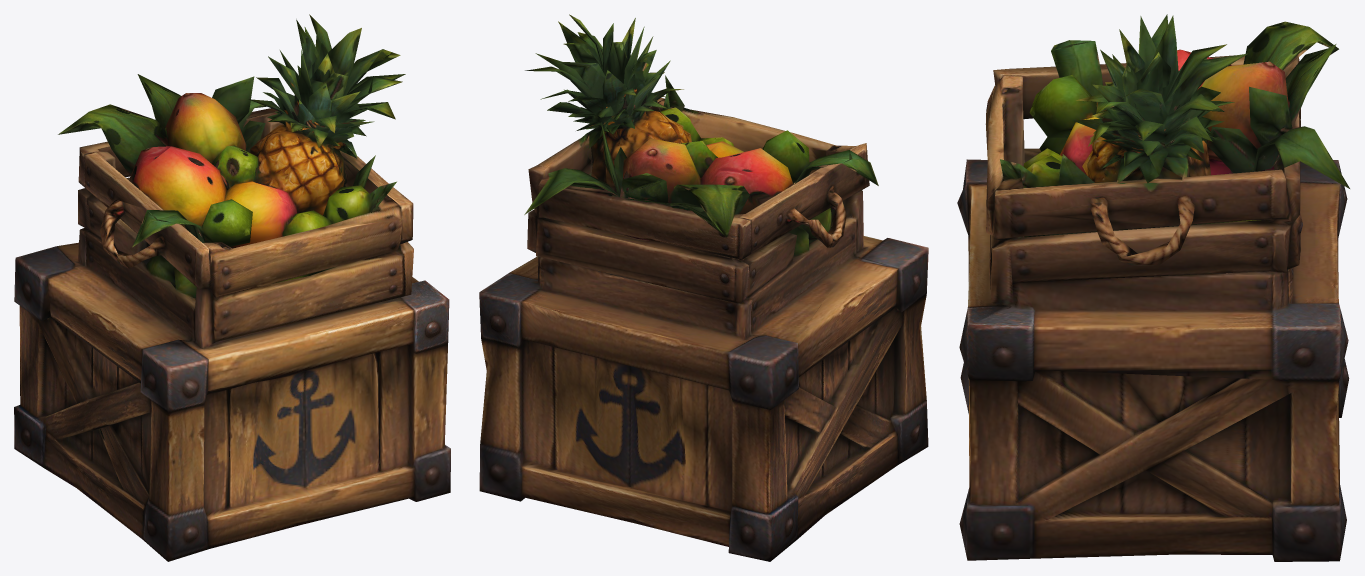
File: crate-stack-v2-lod.glb
3 renders of one model, left to right at view 1: azimuth 30°, elevation 25°; view 2: azimuth 150°, elevation 25°; view 3: azimuth 270°, elevation 25°, orthographic. The views are drawn at different scales.
Parts seen in each view (by area): view 1: tripo_node_3b2c5121-bd56-4c23-9fe7-09df3a0e1711; view 2: tripo_node_3b2c5121-bd56-4c23-9fe7-09df3a0e1711; view 3: tripo_node_3b2c5121-bd56-4c23-9fe7-09df3a0e1711.
Part boxes in pixels (x1,y1,x2,y2): tripo_node_3b2c5121-bd56-4c23-9fe7-09df3a0e1711: (14, 14, 450, 561); tripo_node_3b2c5121-bd56-4c23-9fe7-09df3a0e1711: (479, 14, 928, 561); tripo_node_3b2c5121-bd56-4c23-9fe7-09df3a0e1711: (957, 14, 1349, 561).
Bounding box in the file's own units: 0.767 × 0.9731 × 0.6799.
Materials: 1 (1 with a texture image).
